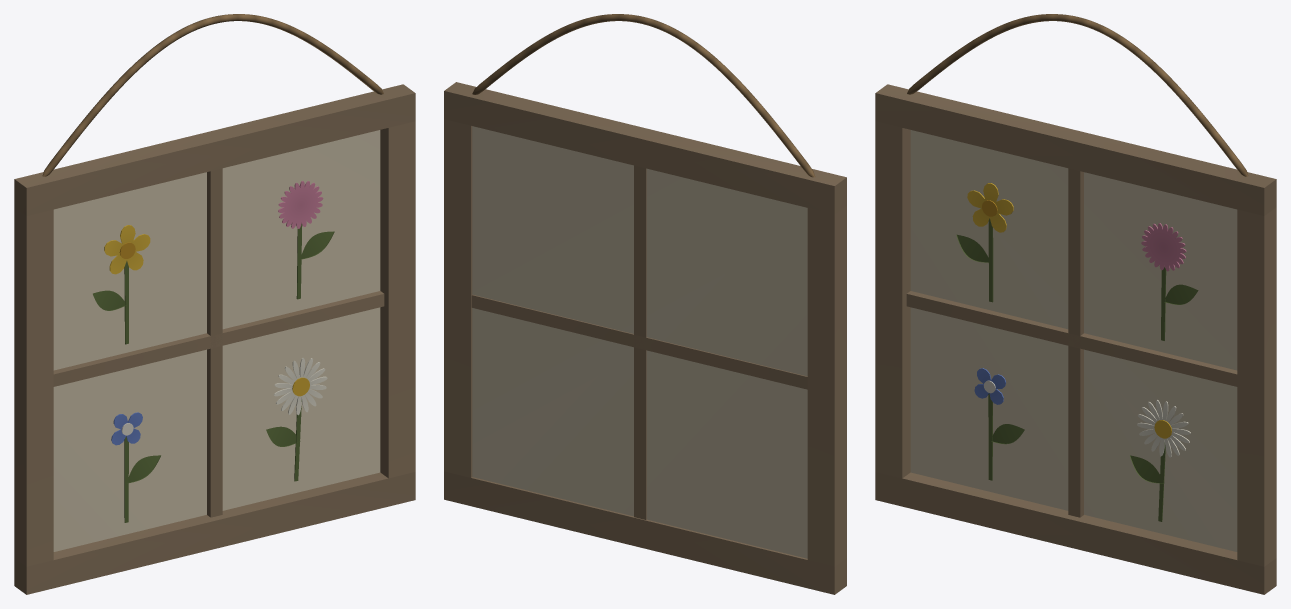
The model's file is pressing-frame.glb.
The picture shows the model from 3 angles, left to right: view 1: azimuth 30°, elevation 25°; view 2: azimuth 150°, elevation 25°; view 3: azimuth 330°, elevation 25°; orthographic projection.
Parts seen in each view (by area): view 1: pressing-frame; view 2: pressing-frame; view 3: pressing-frame.
Part boxes in pixels (left/top/right/bottom): pressing-frame: left=14, top=14, right=415, bottom=594; pressing-frame: left=444, top=14, right=846, bottom=594; pressing-frame: left=875, top=14, right=1276, bottom=594.
Bounding box in the file's own units: 0.2598 × 0.335 × 0.014.
